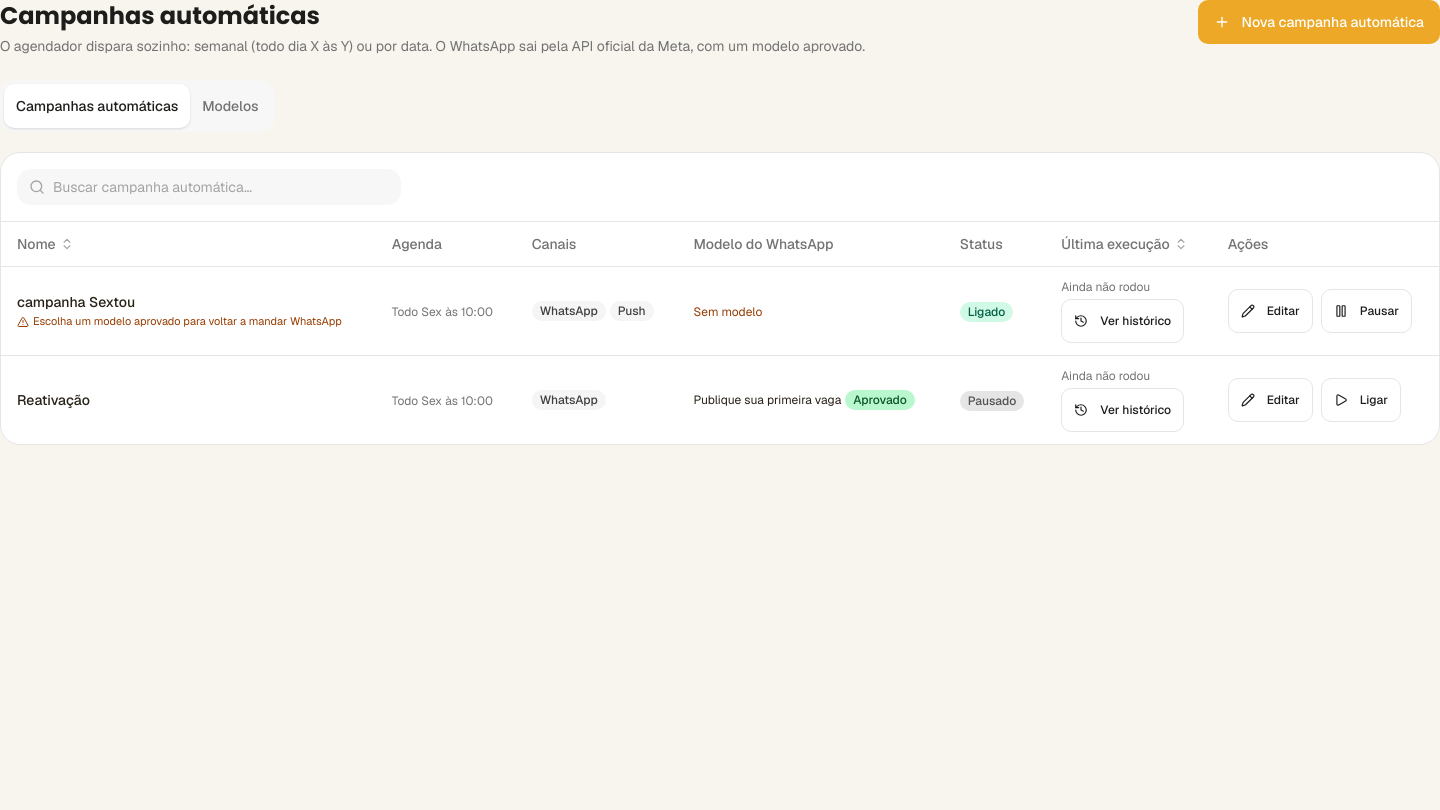
Test: CampanhasAutomaticasPage › Editar abre os 4 passos com a automática preenchida
Click the button "Editar" in the row of "campanha Sextou" at (1270, 311), box x1=1228 y1=289 x2=1313 y2=333
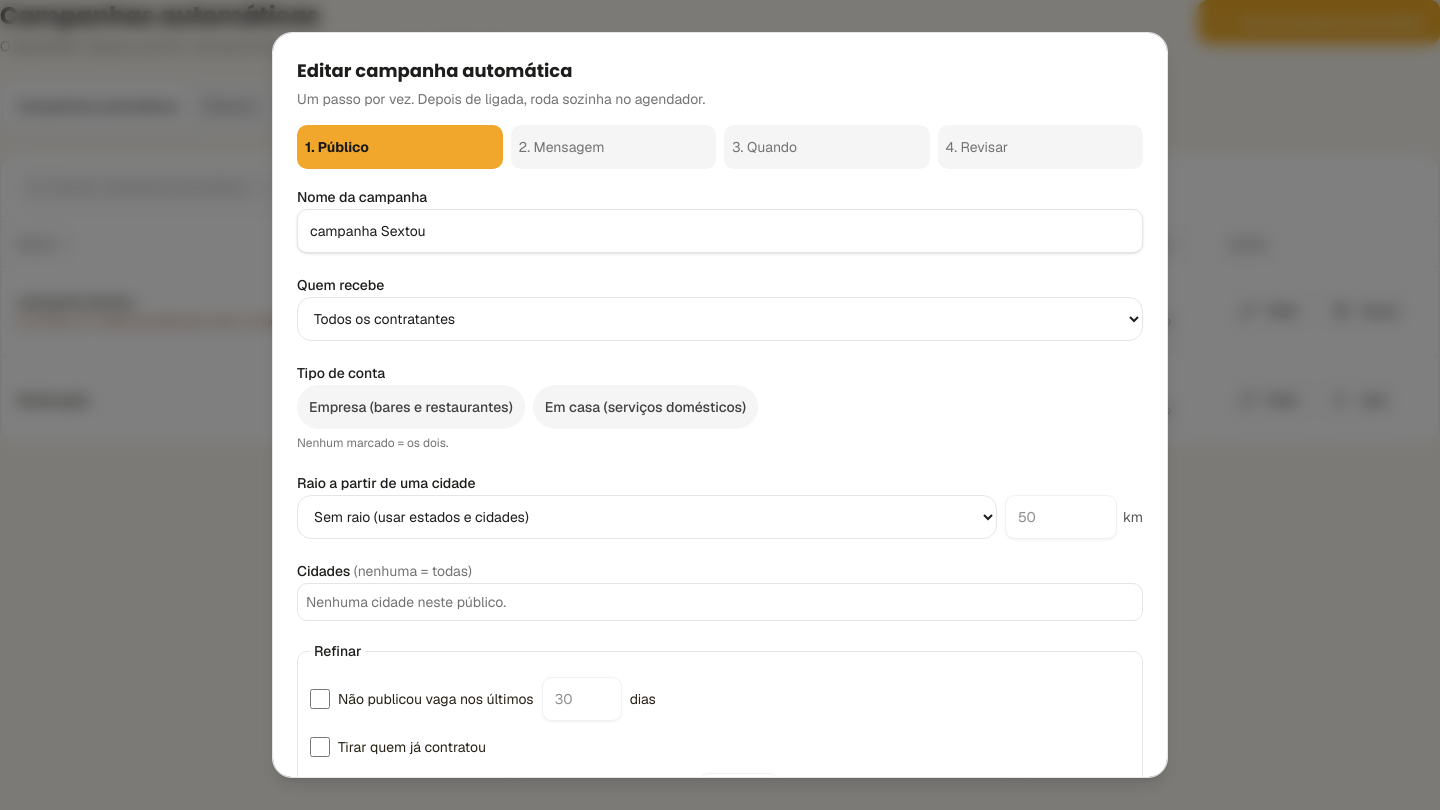
Expected: the heading "Editar campanha automática" is shown, x1=297 y1=58 x2=572 y2=83
Expected: the field labelled "Nome da campanha" holds "campanha Sextou", x1=297 y1=209 x2=1143 y2=253
